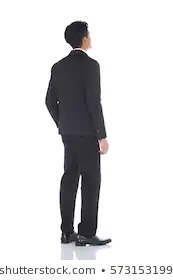F_M_suit jacket: (41, 50, 107, 143)
F_dress pants: (56, 133, 107, 239)
